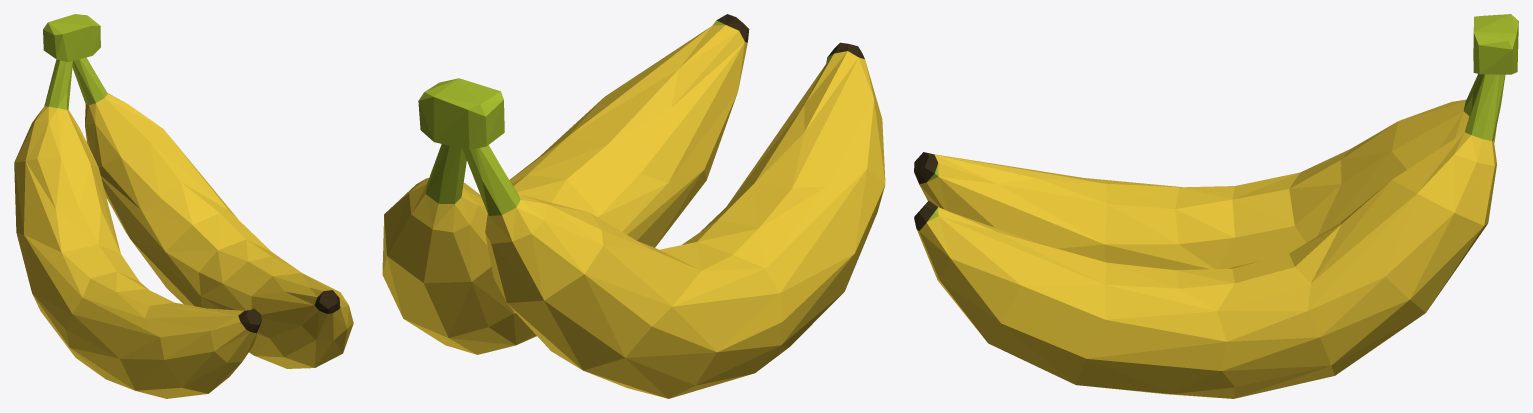
The model's file is banana2.fbx.
3 renders of one model, left to right at view 1: azimuth 30°, elevation 25°; view 2: azimuth 150°, elevation 25°; view 3: azimuth 270°, elevation 25°, orthographic. The views are drawn at different scales.
Visible parts, largest first — view 1: banana 2; view 2: banana 2; view 3: banana 2.
Part boxes in pixels (x1,y1,x2,y2): banana 2: [14, 14, 353, 398]; banana 2: [382, 14, 885, 398]; banana 2: [914, 14, 1518, 398].
Size of the model in its own units: 493 by 545 by 913.
